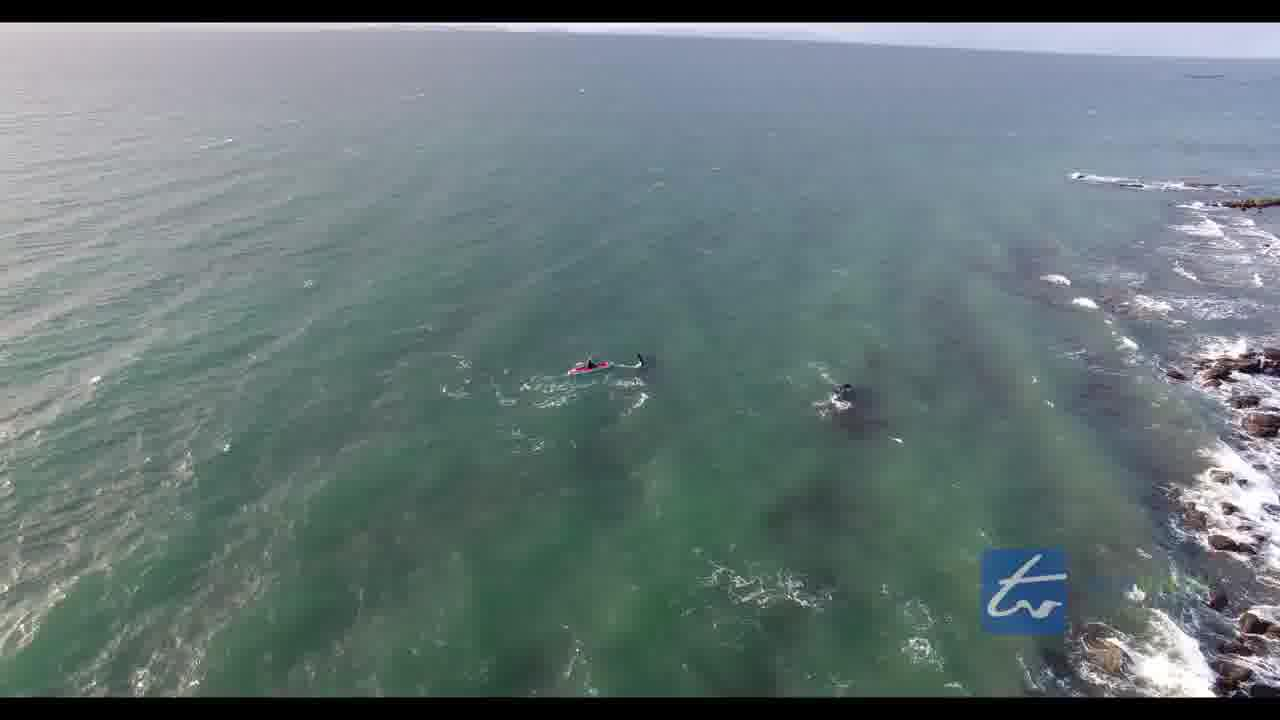swimmer: (625, 342, 648, 369), (577, 351, 600, 370)
